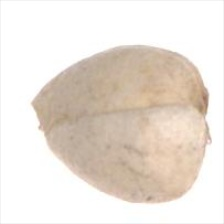L3: (30, 97, 52, 150)
L4: (30, 45, 211, 204)
